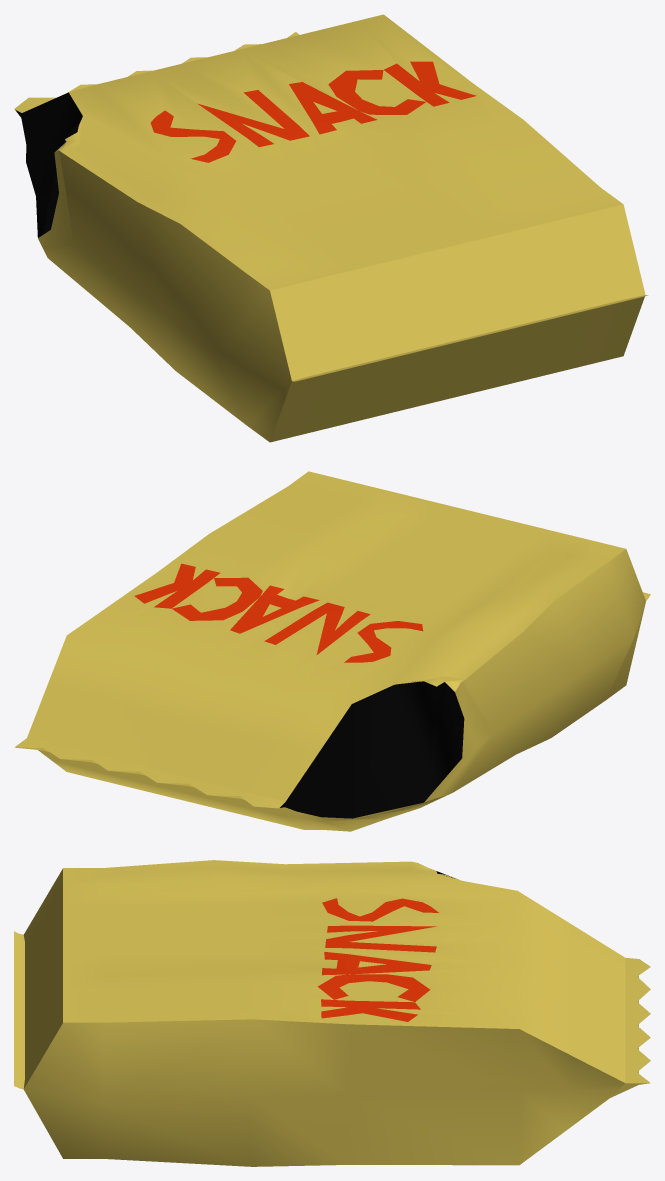
The model's file is snack.fbx.
The picture shows the model from 3 angles, top to bottom: view 1: azimuth 30°, elevation 25°; view 2: azimuth 150°, elevation 25°; view 3: azimuth 270°, elevation 25°; orthographic projection. The views are drawn at different scales.
Parts seen in each view (by area): view 1: pCube1; view 2: pCube1; view 3: pCube1.
Part boxes in pixels (x1,y1,x2,y2): pCube1: (14,14,648,442); pCube1: (14,471,650,831); pCube1: (14,860,650,1166).
Bounding box in the file's own units: 2.87 × 1.09 × 4.24.
